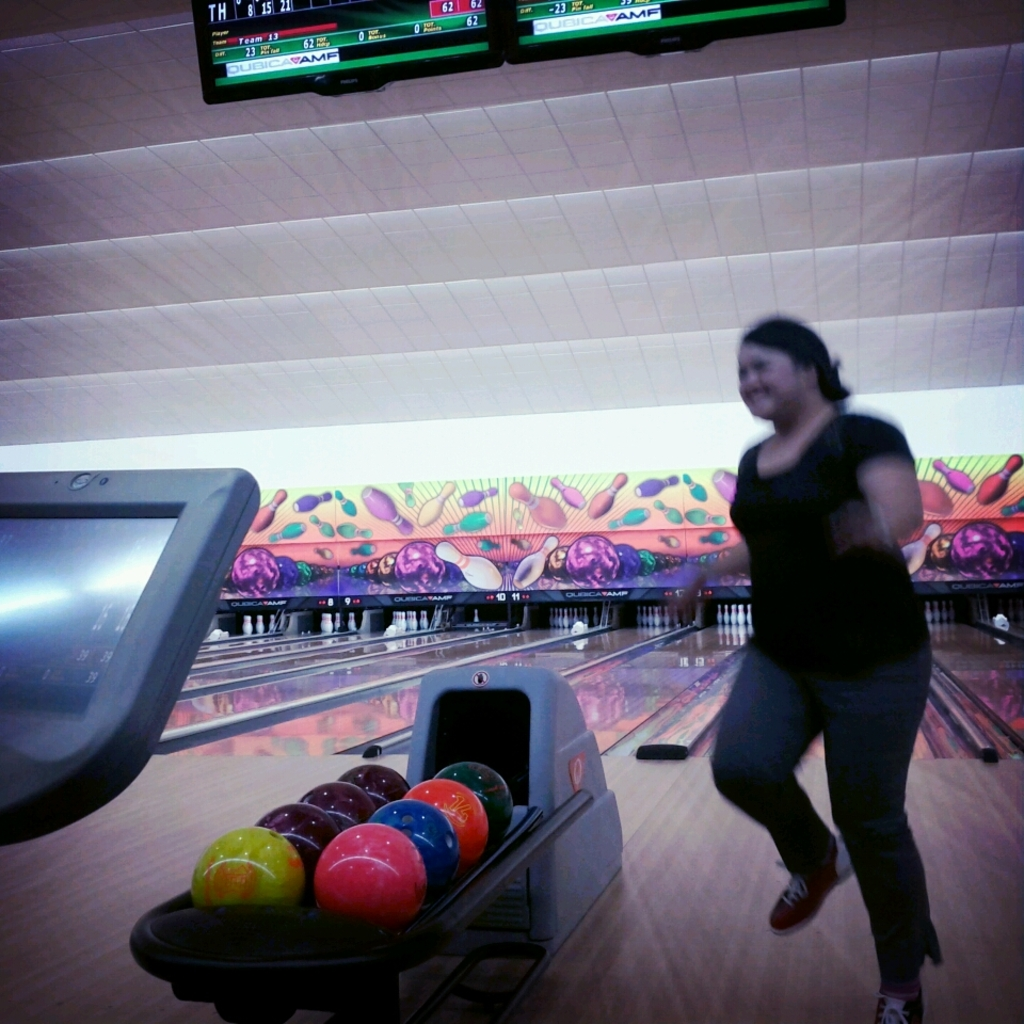Ball: (197, 765, 512, 933)
